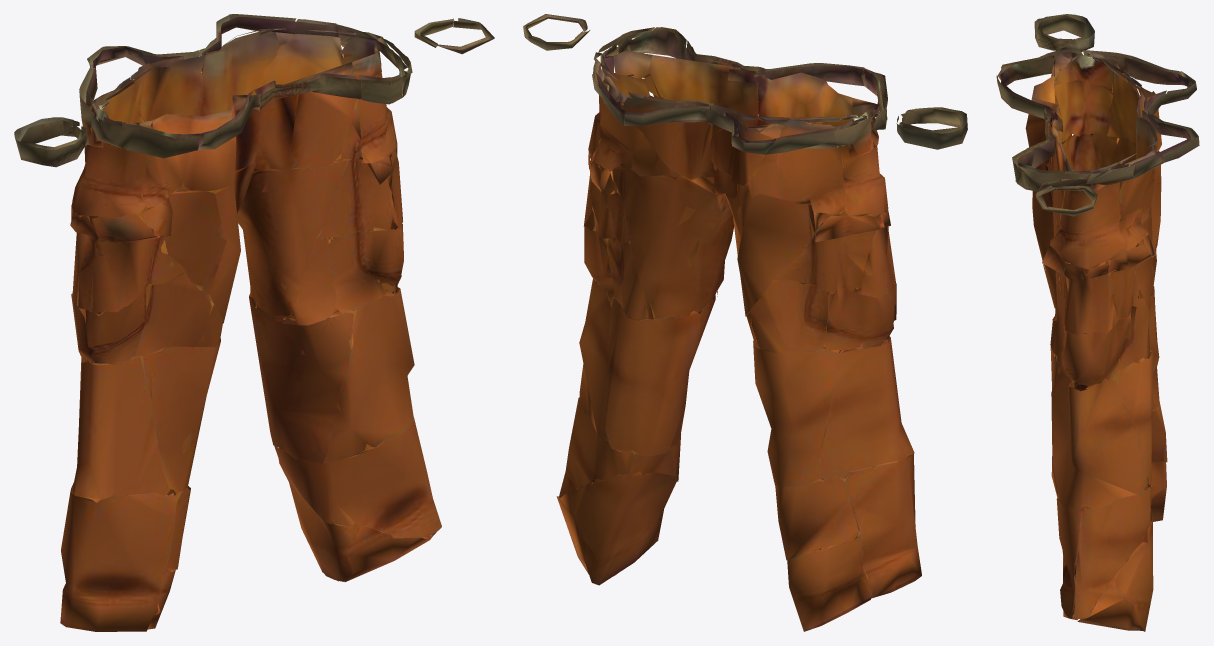
Rendered from Mine_hanging_orange_trousers.glb.
3 renders of one model, left to right at view 1: azimuth 30°, elevation 25°; view 2: azimuth 150°, elevation 25°; view 3: azimuth 270°, elevation 25°, orthographic. The views are drawn at different scales.
Visible parts, largest first — view 1: Mesh_0; view 2: Mesh_0; view 3: Mesh_0.
Part boxes in pixels (x1,y1,x2,y2): Mesh_0: (14, 14, 494, 631); Mesh_0: (523, 14, 967, 631); Mesh_0: (996, 14, 1199, 631).
Size of the model in its own units: 0.7844 by 0.8737 by 0.3416.
Materials: 1 (1 with a texture image).
